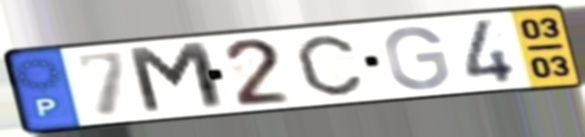2: (221, 36, 294, 109)
4: (462, 15, 519, 87)
7: (73, 48, 131, 120)
C: (293, 32, 366, 98)
G: (380, 24, 453, 92)
M: (122, 39, 231, 118)
